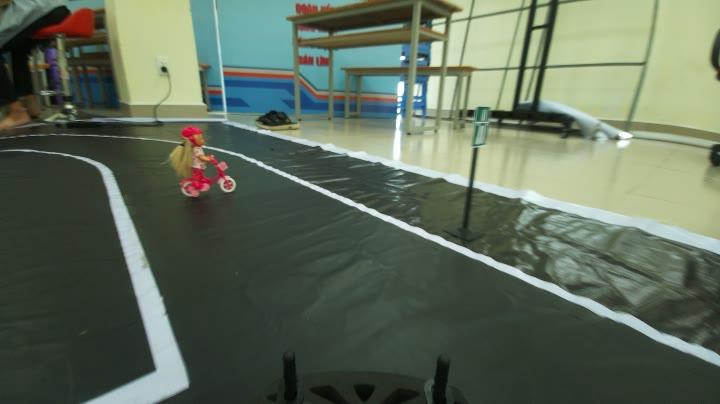highway_entry: (466, 99, 504, 155)
pedestrian: (162, 123, 256, 204)
